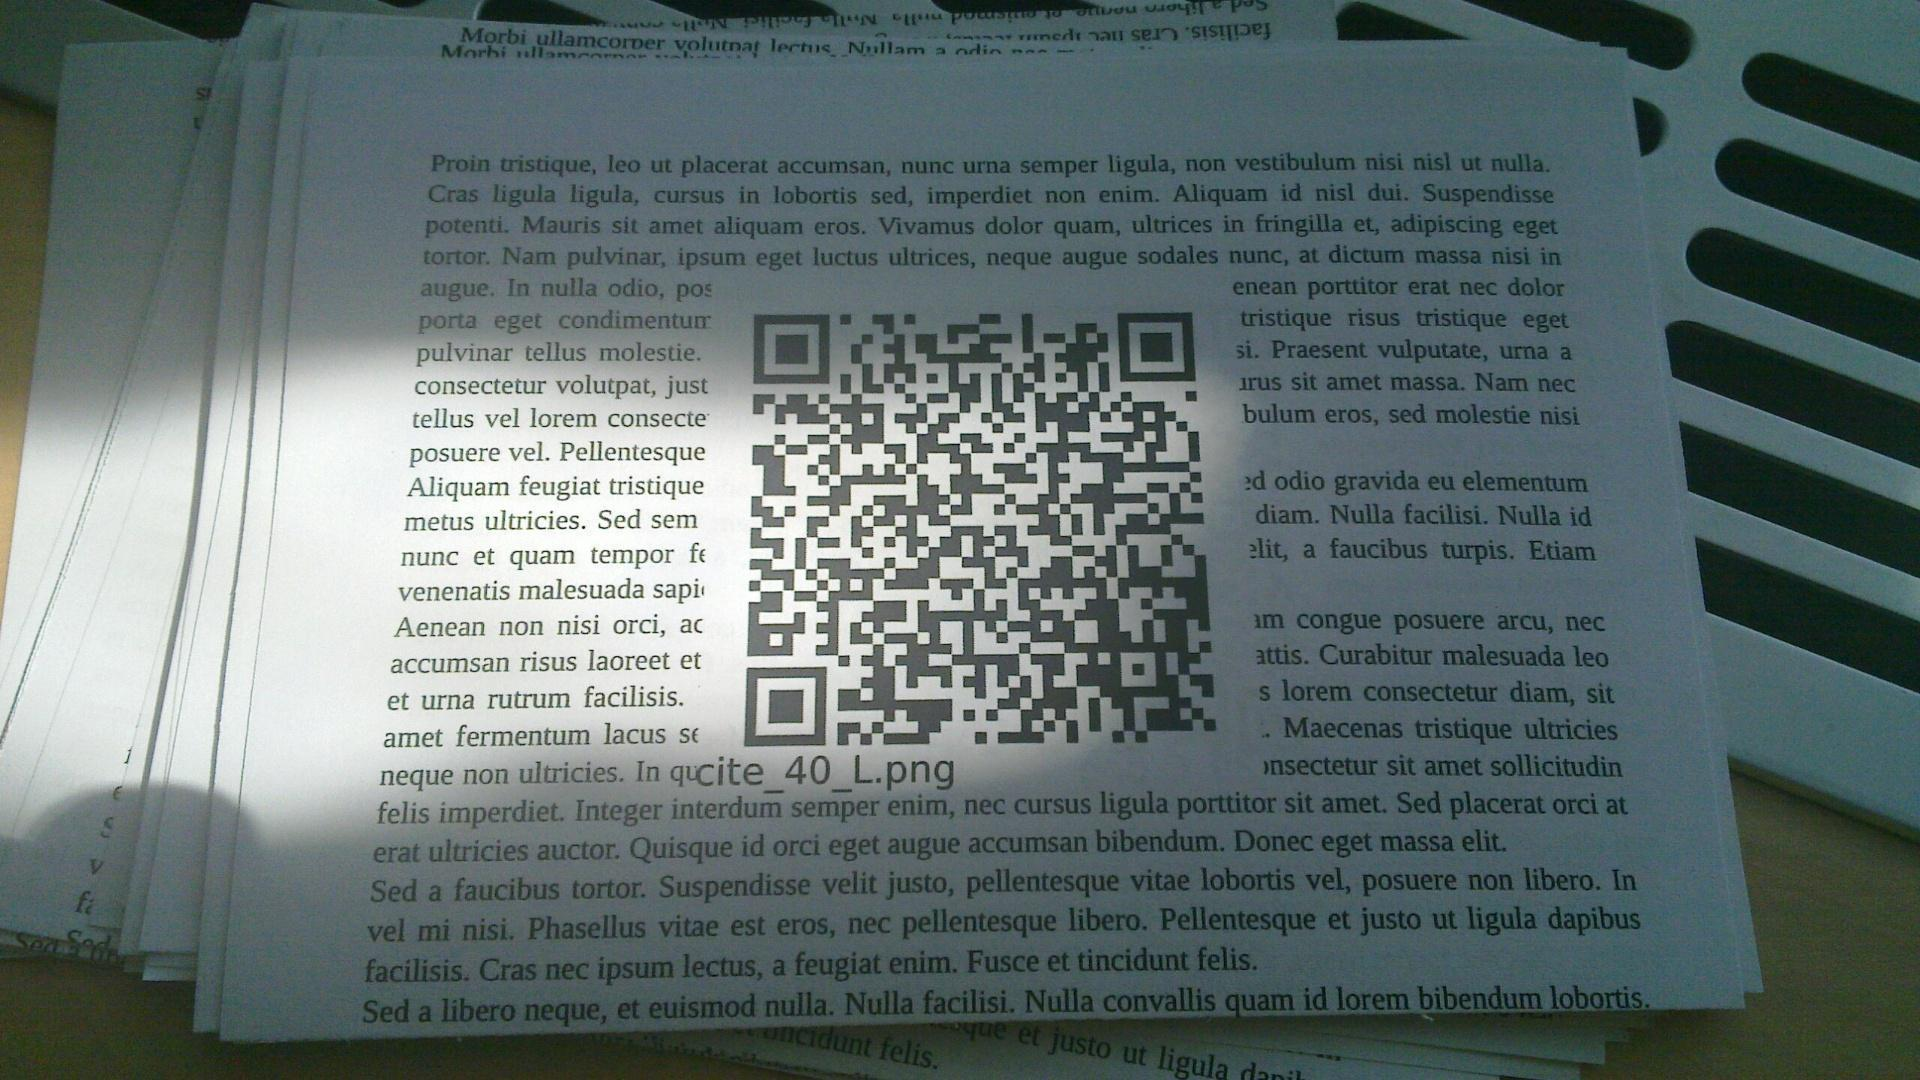qr_code: (744, 311, 1218, 749)
